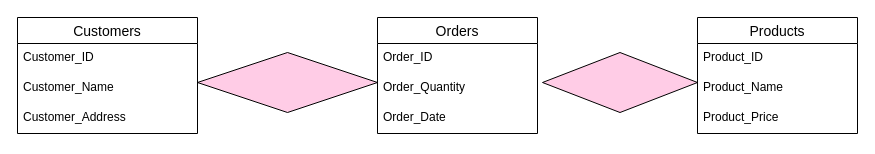
Image size: 875x154. Some labels were removed from this diagram. Each missing label, with the centre of its shape:
INCLUDES: (x=620, y=82)
PLACES: (x=287, y=82)
